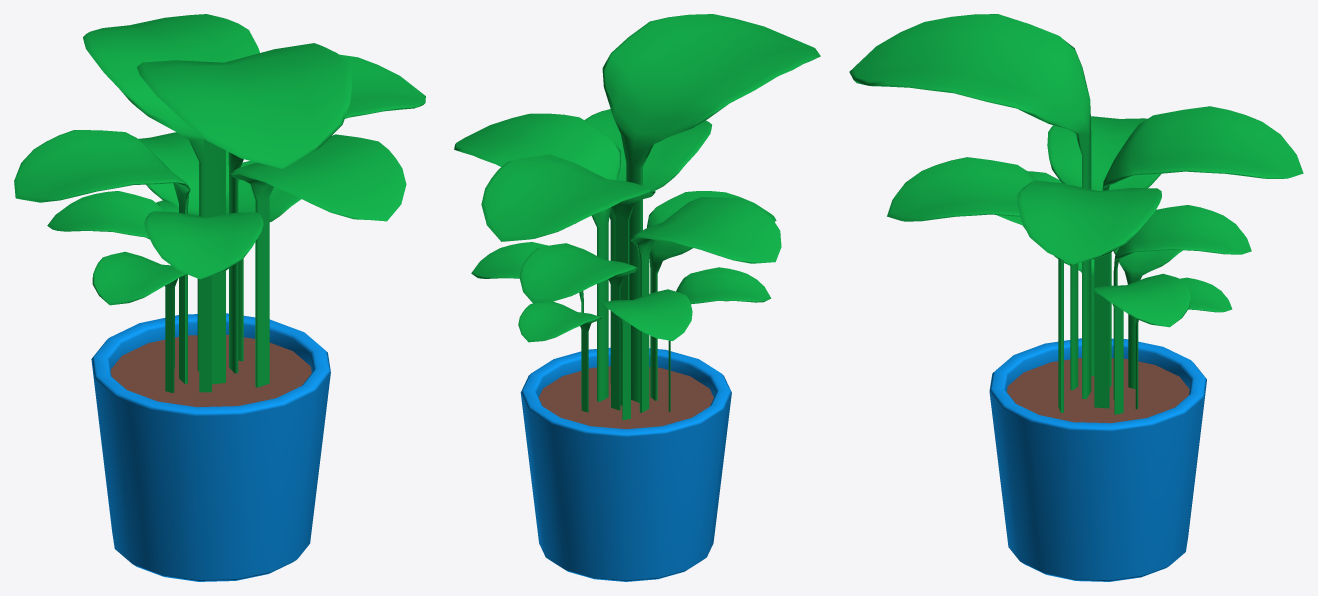
Rendered from Store_6_Plant_4.glb.
3 renders of one model, left to right at view 1: azimuth 30°, elevation 25°; view 2: azimuth 150°, elevation 25°; view 3: azimuth 270°, elevation 25°, orthographic. The views are drawn at different scales.
Parts seen in each view (by area): view 1: Store_6_Plant_4; view 2: Store_6_Plant_4; view 3: Store_6_Plant_4.
Part boxes in pixels (x1,y1,x2,y2): Store_6_Plant_4: (14,14,425,581); Store_6_Plant_4: (454,14,820,581); Store_6_Plant_4: (849,14,1303,581).
Bounding box in the file's own units: 1.33 × 1.75 × 1.5.
Materials: 1 (1 with a texture image).
